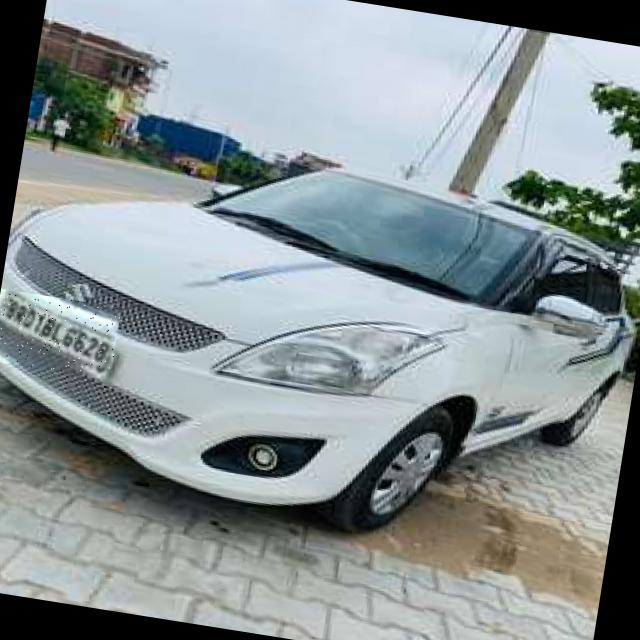Plate: (1, 290, 122, 381)
